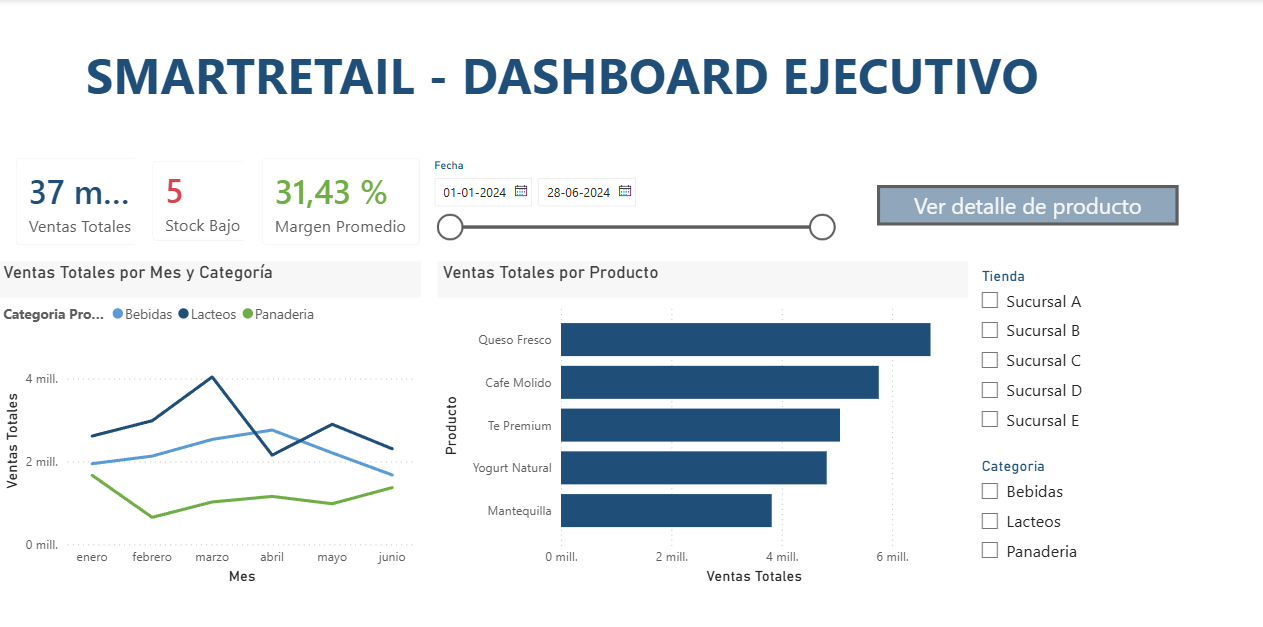

Layout of this report page (visuals, bound fields, positions):
{"tool":"powerbi","page":{"name":"P 3 - Dashboard Ejecutivo","canvas":[1280,720],"ordinal":4},"visuals":[{"type":"cardVisual","fields":{"Data":["ventas_robusto.Ventas Totales"]},"box":[0,137.9,170.7,118.7],"z":0},{"type":"cardVisual","fields":{"Data":["inventario.Stock Bajo"]},"box":[170.7,139.1,133,112.5],"z":1000},{"type":"cardVisual","fields":{"Data":["ventas_robusto.Margen Promedio"]},"box":[288.3,139.1,188.5,119.8],"z":2000},{"type":"lineChart","title":"Ventas Totales por Mes y Categoría","fields":{"Category":["ventas_robusto.Fecha.Variación.Jerarquía de fechas.Año","ventas_robusto.Fecha.Variación.Jerarquía de fechas.Trimestre","ventas_robusto.Fecha.Variación.Jerarquía de fechas.Mes","ventas_robusto.Fecha.Variación.Jerarquía de fechas.Día"],"Y":["ventas_robusto.Ventas Totales"],"Series":["ventas_robusto.Categoria Producto"]},"box":[0,256.1,412.1,318.6],"z":3000},{"type":"clusteredBarChart","fields":{"Category":["Dim Productos.Producto"],"Y":["ventas_robusto.Ventas Totales"]},"box":[428.2,256.1,517.4,318.6],"z":4000},{"type":"slicer","fields":{"Values":["Dim Tiendas.Tienda"]},"box":[945.6,256.1,140.3,179.8],"z":5000},{"type":"slicer","fields":{"Values":["Dim Productos.Categoria"]},"box":[945.6,441.7,172.5,118.4],"z":6000},{"type":"slicer","fields":{"Values":["ventas_robusto.Fecha"]},"box":[464.7,151.5,412.1,97.9],"z":7000},{"type":"actionButton","box":[885.3,180.9,293.8,39.5],"z":9000},{"type":"textbox","box":[80.4,35.1,980.6,81.8],"z":10000}]}

Visuals, with their boxes on the page's 1280x720 design canvas (x1, y1, x2, y2). These are canvas units, not pixel positions in the 1263x627 screenshot, which may show the page scaled, cropped or inside an application window:
cardVisual - ventas_robusto.Ventas Totales: x1=0, y1=138, x2=171, y2=257
cardVisual - inventario.Stock Bajo: x1=171, y1=139, x2=304, y2=252
cardVisual - ventas_robusto.Margen Promedio: x1=288, y1=139, x2=477, y2=259
"Ventas Totales por Mes y Categoría" lineChart: x1=0, y1=256, x2=412, y2=575
clusteredBarChart - Dim Productos.Producto x ventas_robusto.Ventas Totales: x1=428, y1=256, x2=946, y2=575
slicer - Dim Tiendas.Tienda: x1=946, y1=256, x2=1086, y2=436
slicer - Dim Productos.Categoria: x1=946, y1=442, x2=1118, y2=560
slicer - ventas_robusto.Fecha: x1=465, y1=152, x2=877, y2=249
actionButton: x1=885, y1=181, x2=1179, y2=220
textbox: x1=80, y1=35, x2=1061, y2=117
